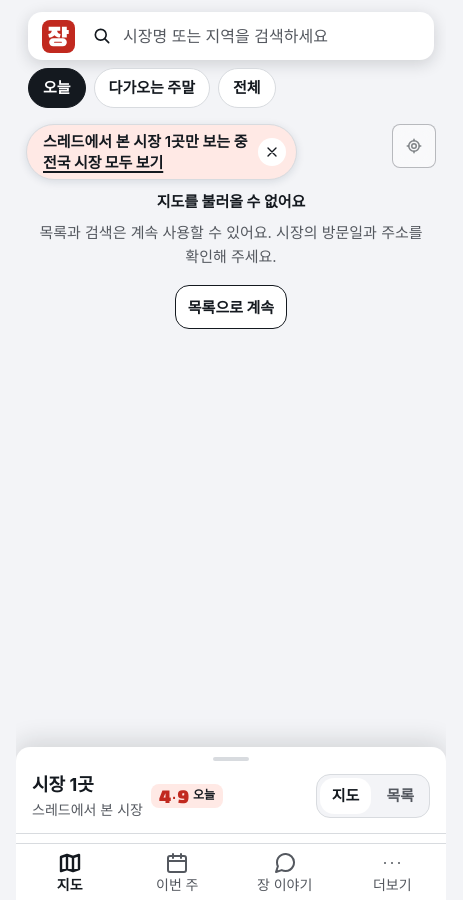
Scenario: MarketExplorer › market set links from Threads › leaves the set when a date chip is picked
The width and height of the screenshot is (463, 900).
Expected: the button "스레드에서 본 시장 1곳만 보는 중 전국 시장 모두 보기" is shown, x1=26 y1=124 x2=297 y2=180
Click the button "전체".
click(247, 88)  # box x1=218 y1=68 x2=276 y2=108
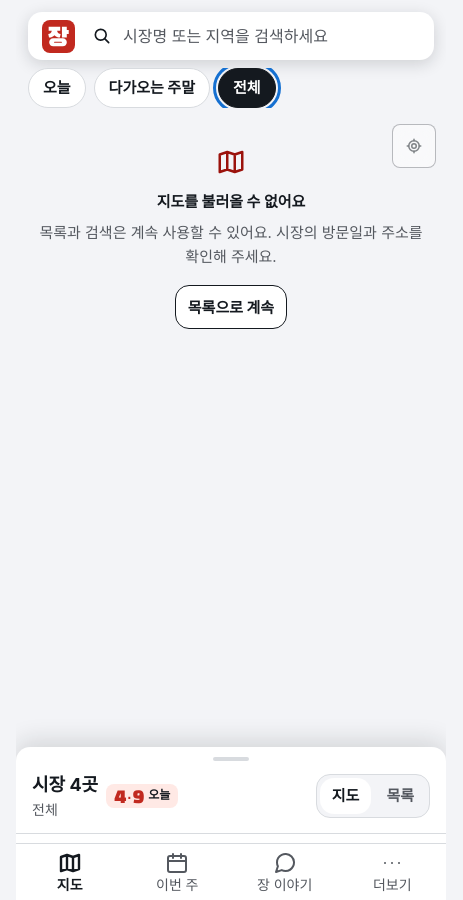
Expected: the button "스레드에서 본 시장" is gone
